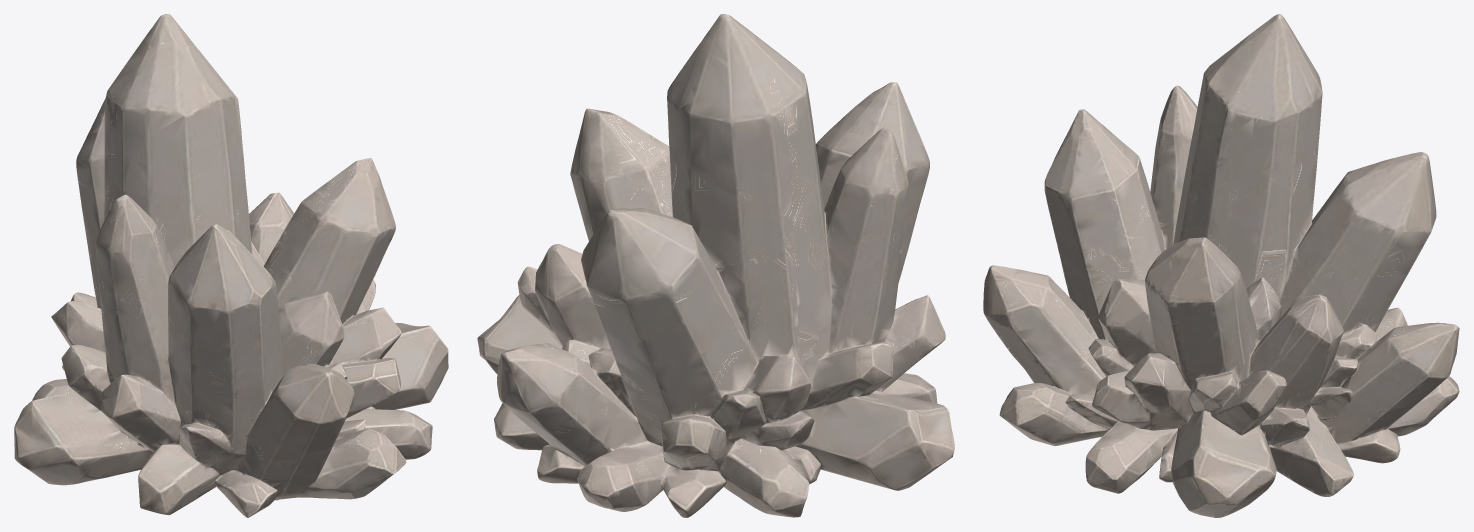
The model's file is crystal.glb.
3 renders of one model, left to right at view 1: azimuth 30°, elevation 25°; view 2: azimuth 150°, elevation 25°; view 3: azimuth 270°, elevation 25°, orthographic. The views are drawn at different scales.
Visible parts, largest first — view 1: tripo_node_1f3282f3-2170-4891-a38d-114ad8c53b99; view 2: tripo_node_1f3282f3-2170-4891-a38d-114ad8c53b99; view 3: tripo_node_1f3282f3-2170-4891-a38d-114ad8c53b99.
Boxes of the visible parts, <box> form: tripo_node_1f3282f3-2170-4891-a38d-114ad8c53b99: <box>14,14,448,517</box>; tripo_node_1f3282f3-2170-4891-a38d-114ad8c53b99: <box>477,14,954,517</box>; tripo_node_1f3282f3-2170-4891-a38d-114ad8c53b99: <box>983,14,1459,517</box>.
Size of the model in its own units: 1 by 0.9244 by 0.9923.
1 material, 1 textured.
